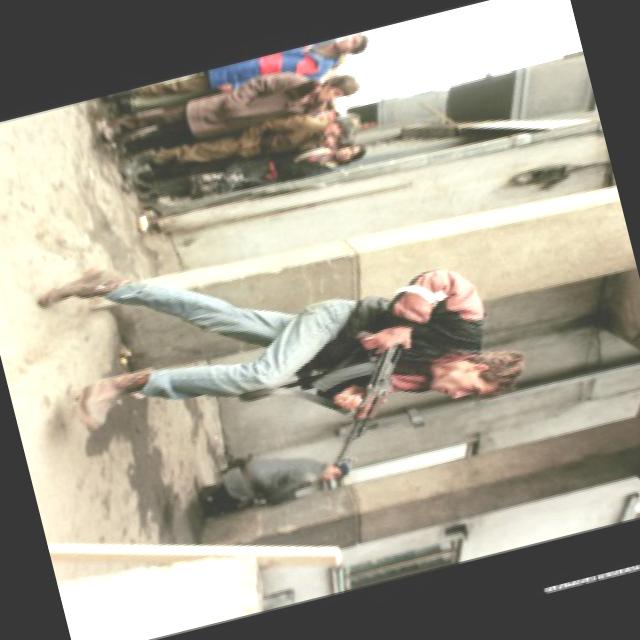long weapon: (280, 302, 438, 476)
